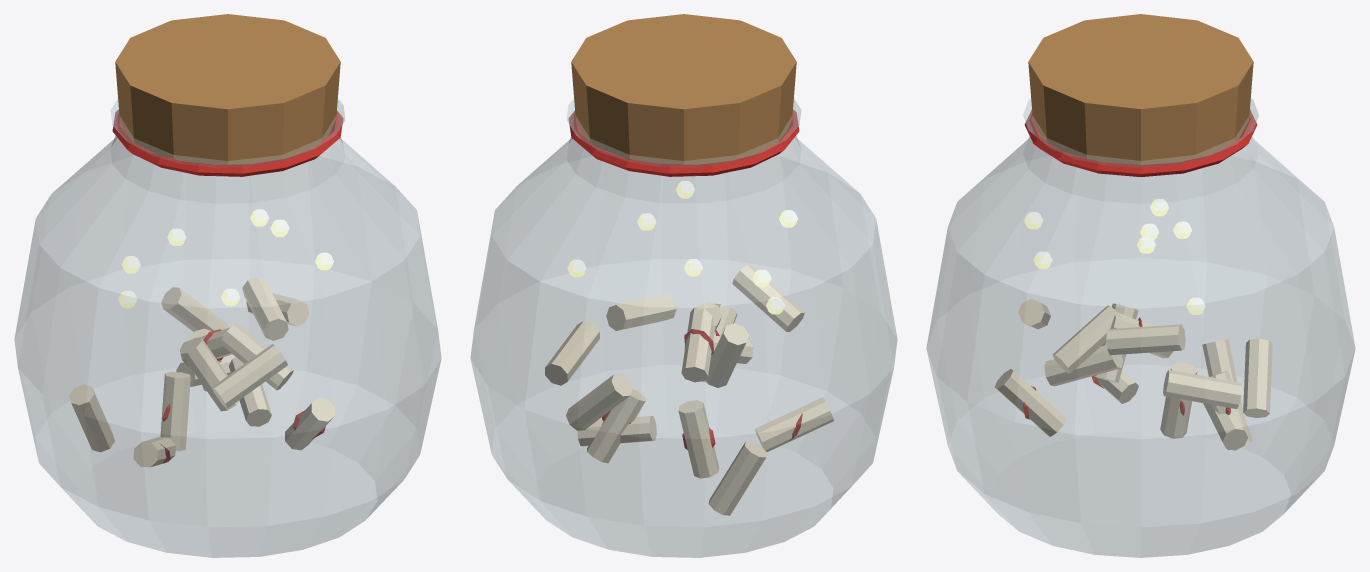
File: prop_word_jar_v01.glb
The picture shows the model from 3 angles, left to right: view 1: azimuth 30°, elevation 25°; view 2: azimuth 150°, elevation 25°; view 3: azimuth 270°, elevation 25°; orthographic projection.
Parts seen in each view (by area): view 1: word_jar; view 2: word_jar; view 3: word_jar.
Part boxes in pixels (bbox=[...]): word_jar: bbox=[14, 14, 441, 557]; word_jar: bbox=[470, 14, 897, 557]; word_jar: bbox=[926, 14, 1355, 557].
Size of the model in its own units: 0.8 by 0.89 by 0.8.
